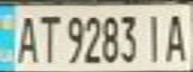2: (81, 11, 103, 65)
3: (118, 10, 142, 64)
8: (100, 11, 121, 64)
9: (60, 11, 84, 64)
A: (160, 8, 193, 63), (9, 10, 42, 64)
I: (139, 10, 169, 63)
T: (33, 10, 60, 64)
